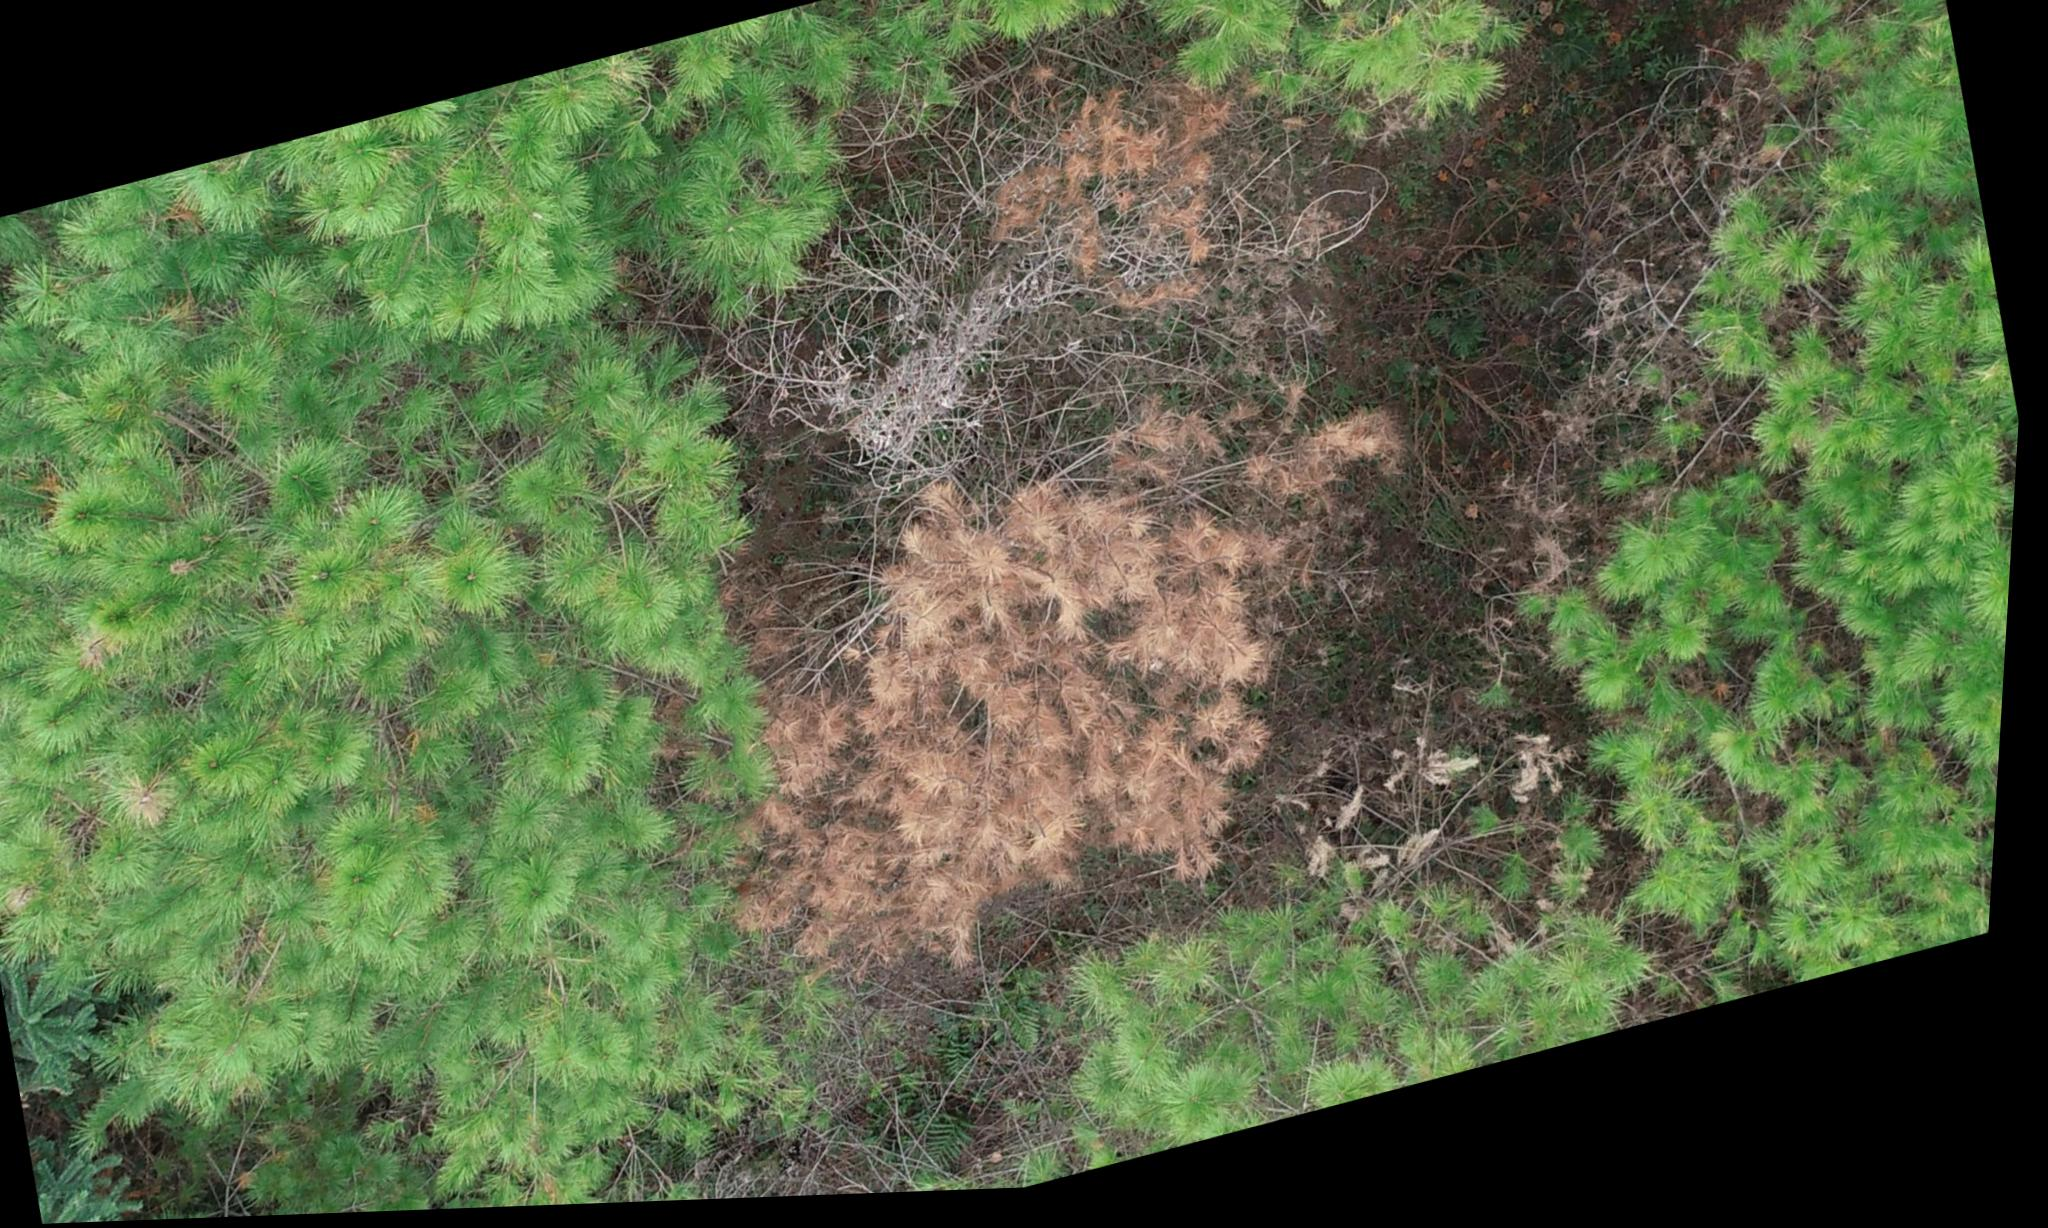heavy: (672, 342, 1533, 1034), (959, 45, 1278, 365)
